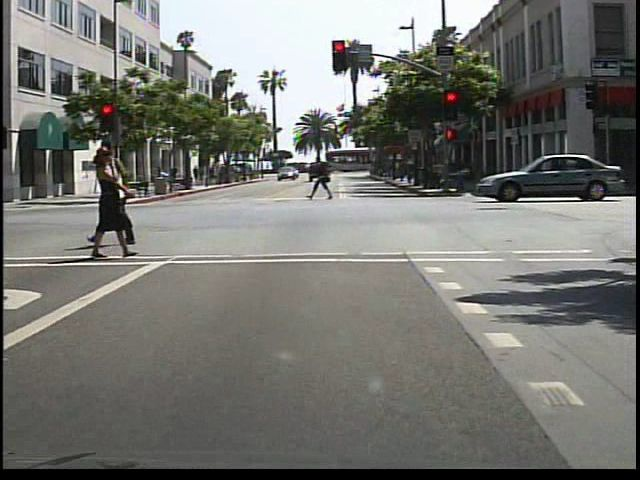person: (87, 143, 139, 262), (98, 155, 141, 247), (309, 154, 337, 203), (2, 148, 9, 269), (166, 162, 181, 189)
